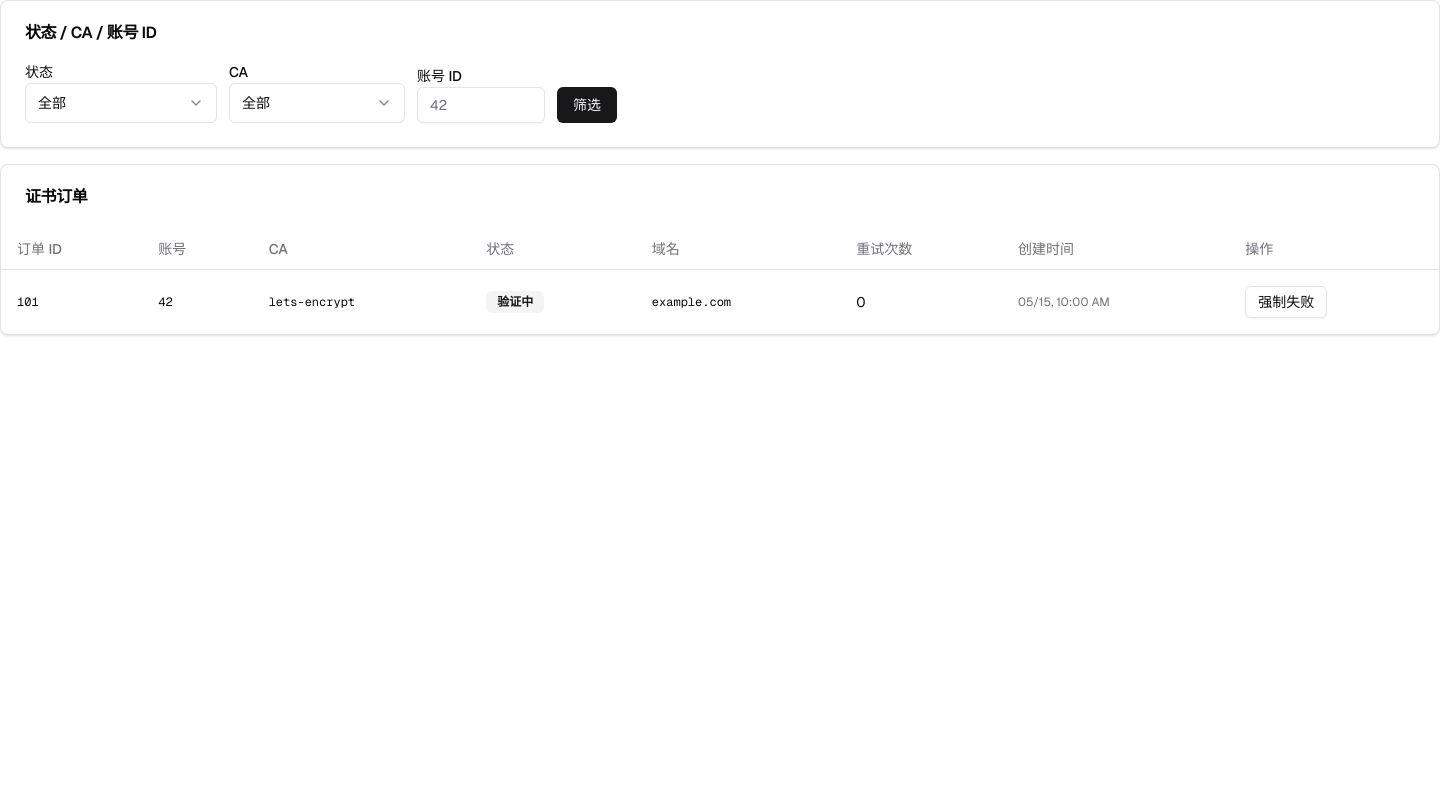
Test: OrdersAdminClient › opens AlertDialog on force-fail click and shows confirm/cancel
The image size is (1440, 810).
Click the button "强制失败".
click(1286, 302)  # box [1245,286,1327,318]
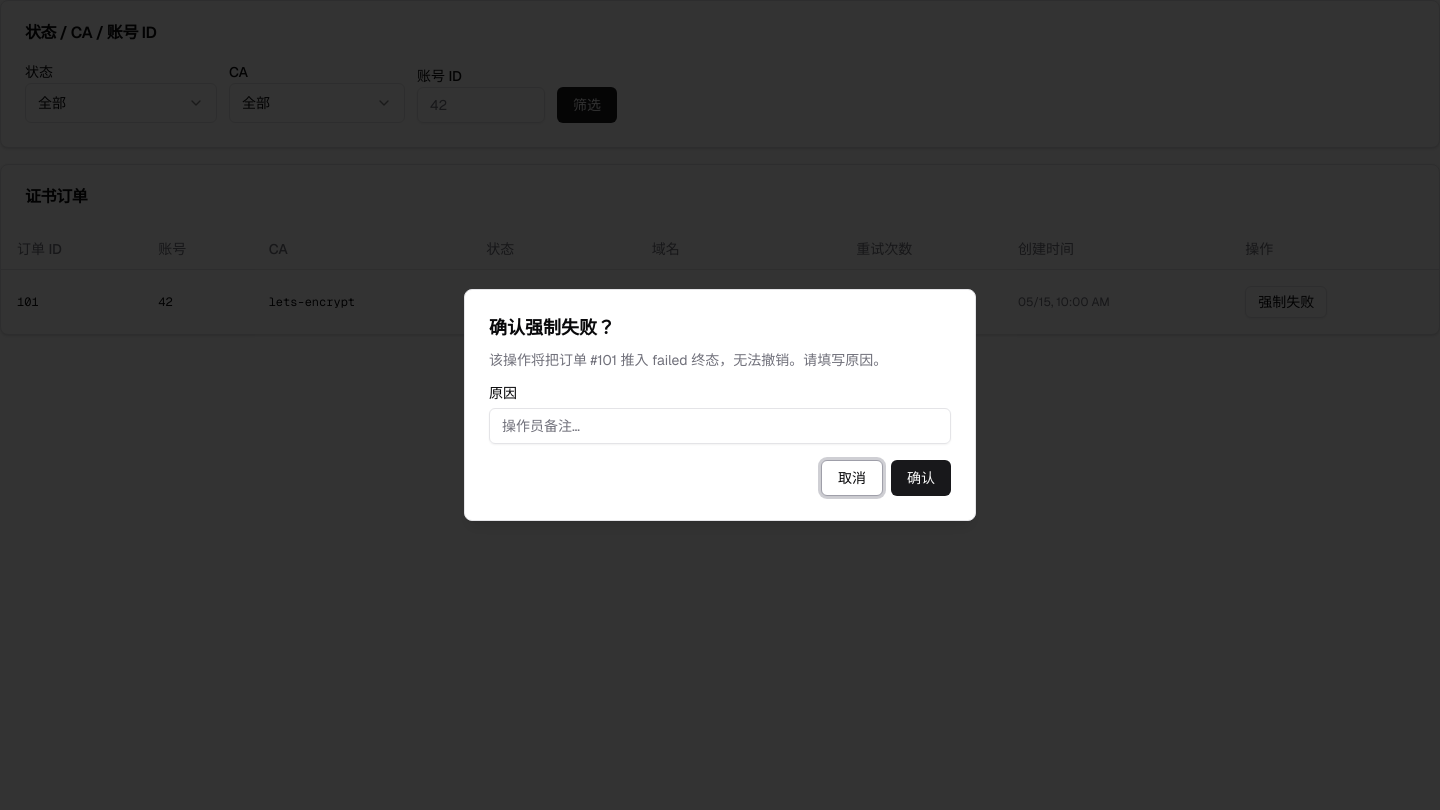
Expected: the heading "确认强制失败？" is shown, [489,316,615,339]
Expected: the button "取消" is shown, [821,460,883,496]
Expected: the button "确认" is shown, [891,460,951,496]
